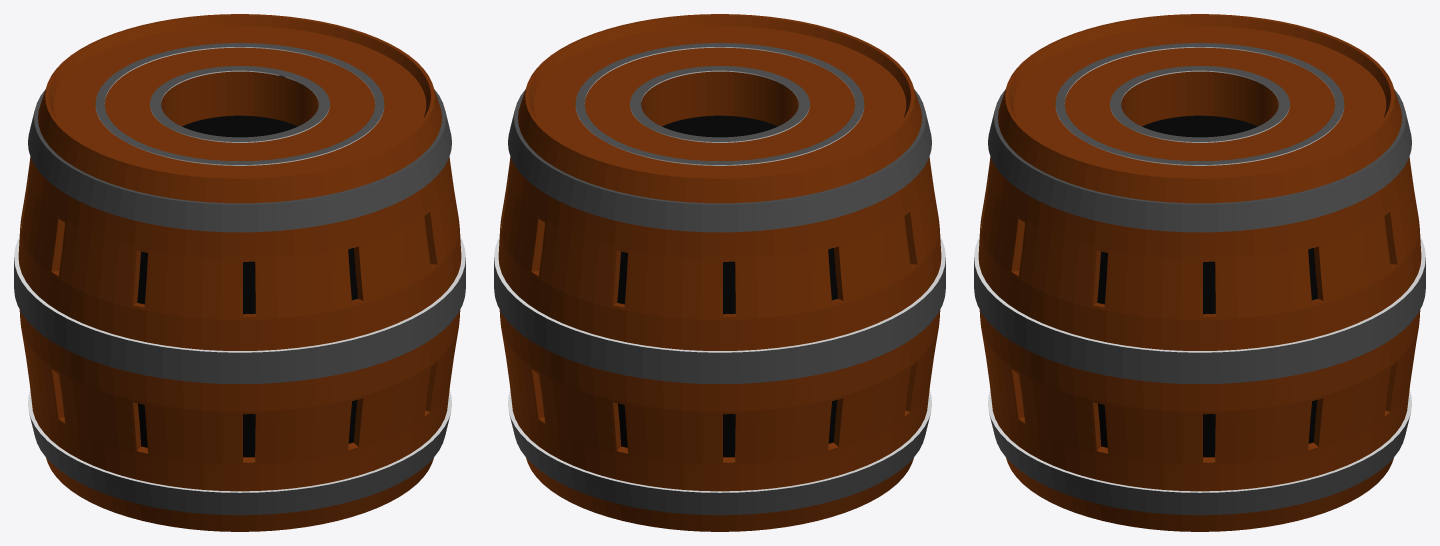
File: PPBarrel.fbx
3 renders of one model, left to right at view 1: azimuth 30°, elevation 25°; view 2: azimuth 150°, elevation 25°; view 3: azimuth 270°, elevation 25°, orthographic.
Parts seen in each view (by area): view 1: Cylinder; view 2: Cylinder; view 3: Cylinder.
Part boxes in pixels (bbox=[...]): Cylinder: bbox=[14, 14, 465, 531]; Cylinder: bbox=[494, 14, 945, 531]; Cylinder: bbox=[974, 14, 1425, 531].
Size of the model in its own units: 232 by 200 by 232.
